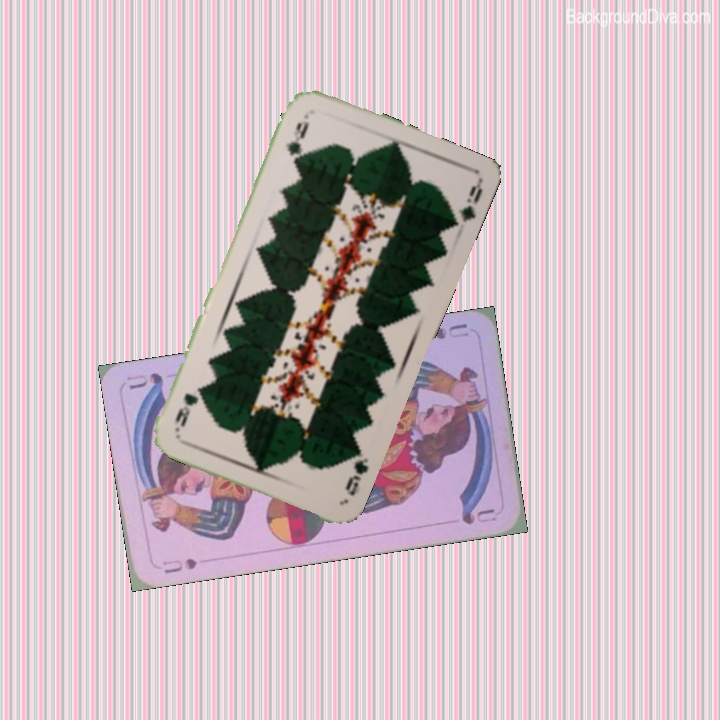G9: (283, 110, 312, 166), (341, 454, 371, 499)
SU: (430, 319, 471, 342), (159, 554, 200, 576)
